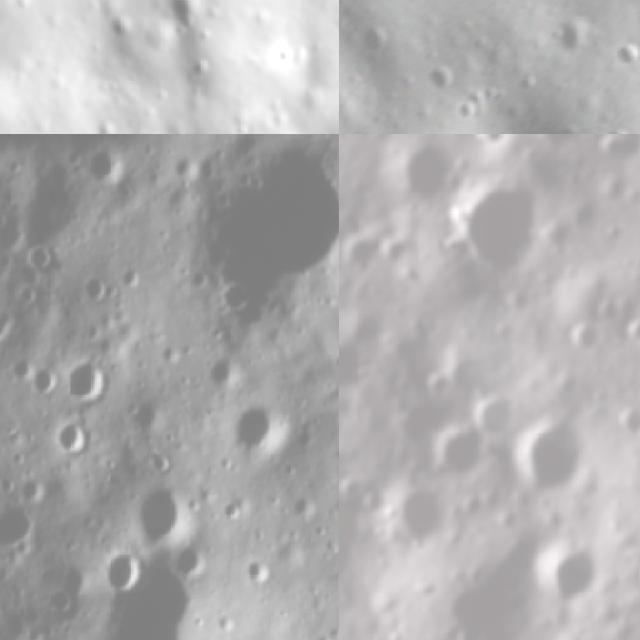crater: (168, 136, 339, 337), (456, 177, 546, 278), (120, 471, 202, 559), (516, 418, 592, 498), (386, 137, 463, 215), (384, 479, 458, 559), (229, 394, 304, 460), (528, 546, 602, 612), (339, 469, 373, 598), (437, 350, 505, 412), (57, 357, 121, 412), (0, 493, 52, 560), (393, 400, 455, 455), (428, 430, 486, 484), (100, 542, 149, 604), (50, 412, 96, 469), (82, 143, 137, 189), (466, 396, 517, 442), (558, 322, 613, 363), (547, 11, 593, 57), (339, 227, 387, 271), (339, 338, 375, 394), (200, 354, 242, 400), (27, 358, 64, 408), (359, 19, 396, 63), (309, 534, 339, 586), (606, 405, 640, 448), (600, 134, 640, 169), (609, 31, 640, 71), (339, 402, 363, 453), (423, 60, 457, 93), (529, 134, 588, 152), (168, 0, 205, 28), (453, 100, 482, 128), (472, 134, 510, 154), (433, 134, 484, 146), (626, 319, 640, 350)
